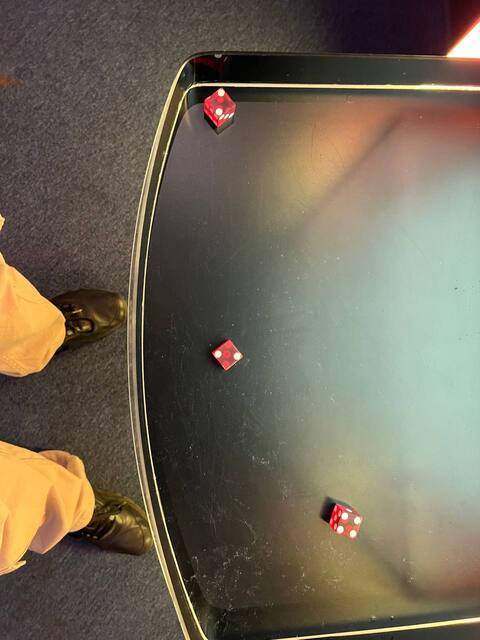four: (333, 508, 364, 541)
two: (209, 336, 246, 373), (200, 85, 235, 117)
